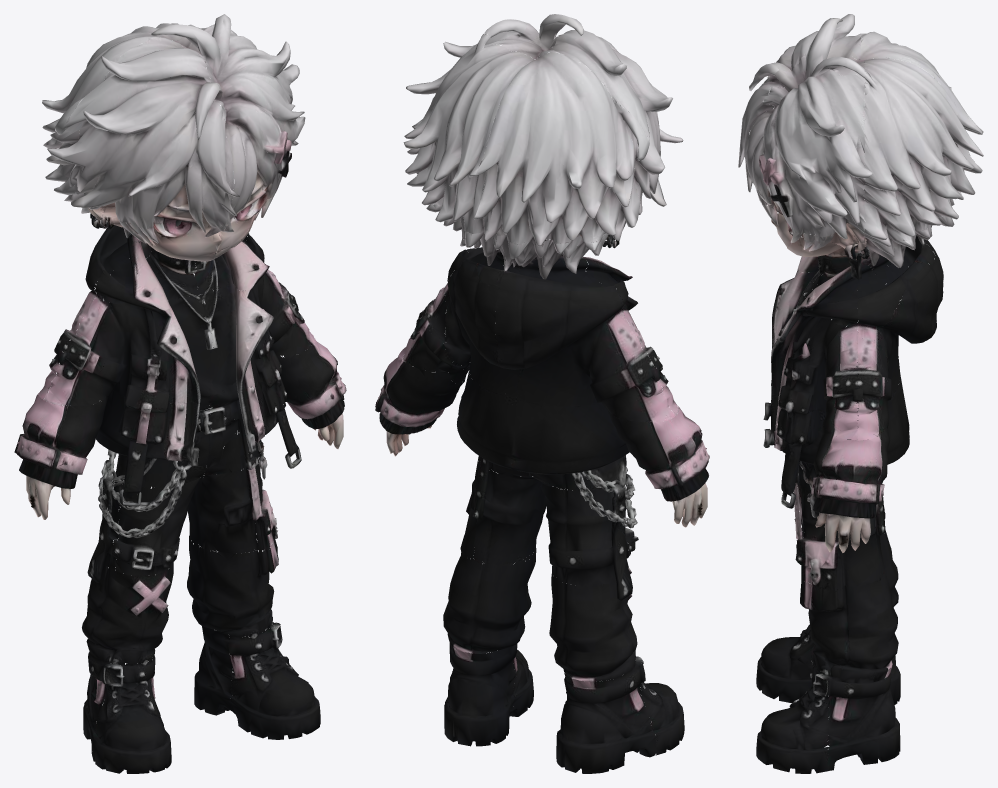
Rendered from studio-visitor-ivory-standing-v5.glb.
3 views of the same model, side by side, from view 1: azimuth 30°, elevation 25°; view 2: azimuth 150°, elevation 25°; view 3: azimuth 270°, elevation 25° (orthographic). The views are drawn at different scales.
Parts seen in each view (by area): view 1: ivory_continuous_body; view 2: ivory_continuous_body; view 3: ivory_continuous_body.
Part boxes in pixels (<box>): ivory_continuous_body: <box>14,14,346,773</box>; ivory_continuous_body: <box>375,14,709,773</box>; ivory_continuous_body: <box>738,14,983,773</box>.
Size of the model in its own units: 0.58 by 1.25 by 0.3984.
Materials: 5 (5 with a texture image).
